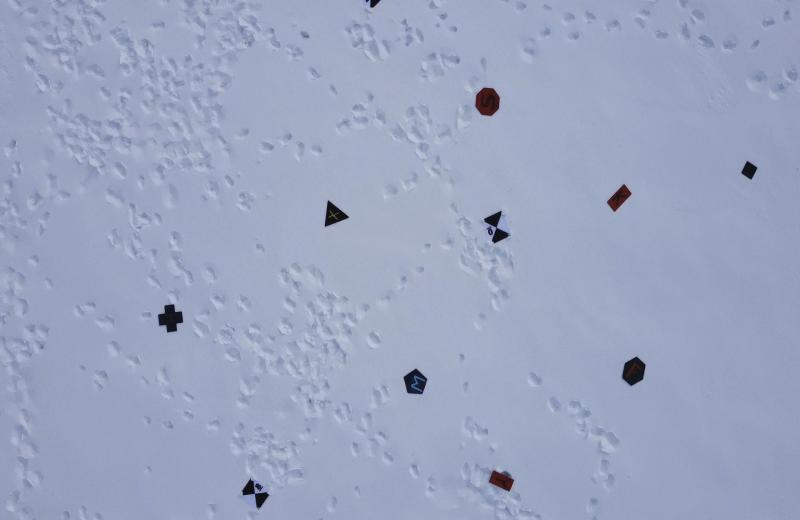Cross: (154, 300, 186, 334)
Hexagon: (620, 355, 650, 392)
Octagon: (473, 82, 500, 119)
Pentagon: (401, 368, 430, 403)
Rectangle: (606, 180, 638, 214), (484, 463, 516, 494)
Square: (738, 159, 762, 184)
Triangle: (317, 199, 349, 233)
